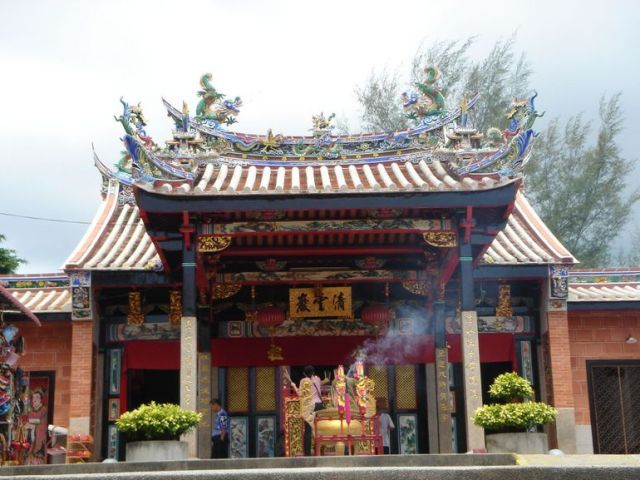Buddhist Temple: (80, 95, 557, 439)
